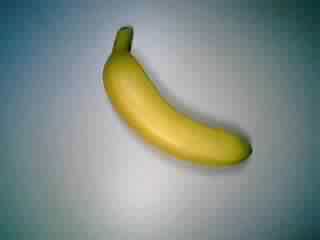banana: (101, 24, 255, 173)
